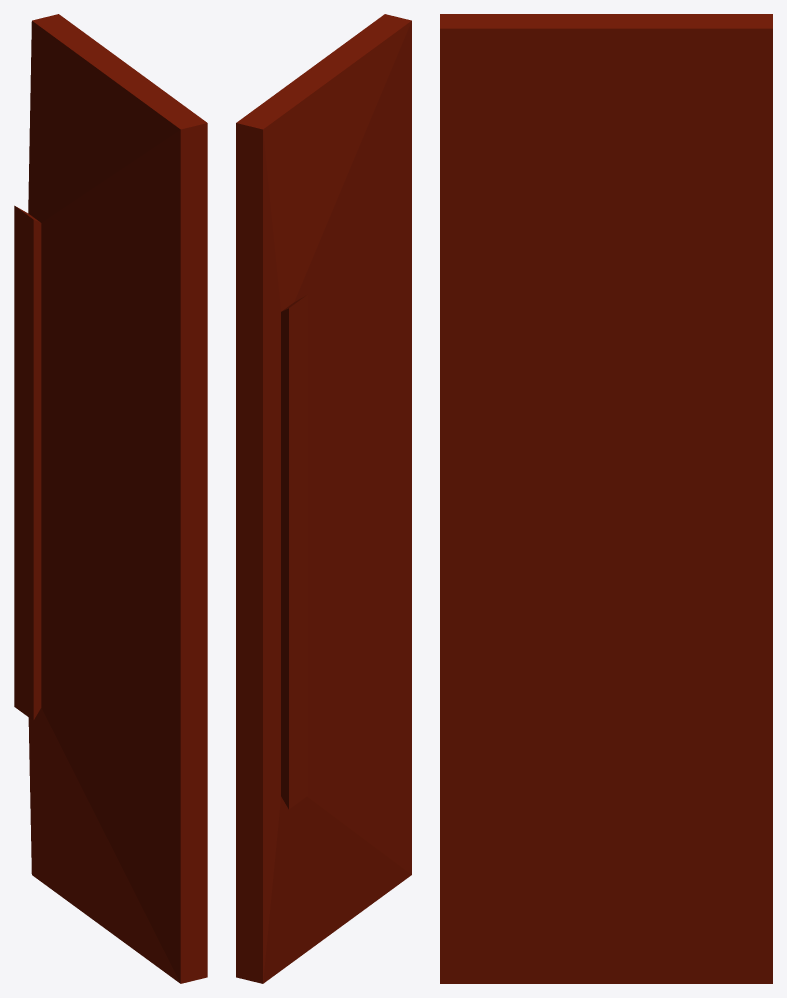
The model's file is m_ClosetDoolRight.FBX.
3 renders of one model, left to right at view 1: azimuth 30°, elevation 25°; view 2: azimuth 150°, elevation 25°; view 3: azimuth 270°, elevation 25°, orthographic. The views are drawn at different scales.
Visible parts, largest first — view 1: ClosetDooRight; view 2: ClosetDooRight; view 3: ClosetDooRight.
Boxes of the visible parts, x1=… form: ClosetDooRight: x1=14, y1=14, x2=207, y2=983; ClosetDooRight: x1=236, y1=14, x2=411, y2=983; ClosetDooRight: x1=440, y1=14, x2=772, y2=983.
Size of the model in its own units: 5.14 by 27.22 by 86.18.
